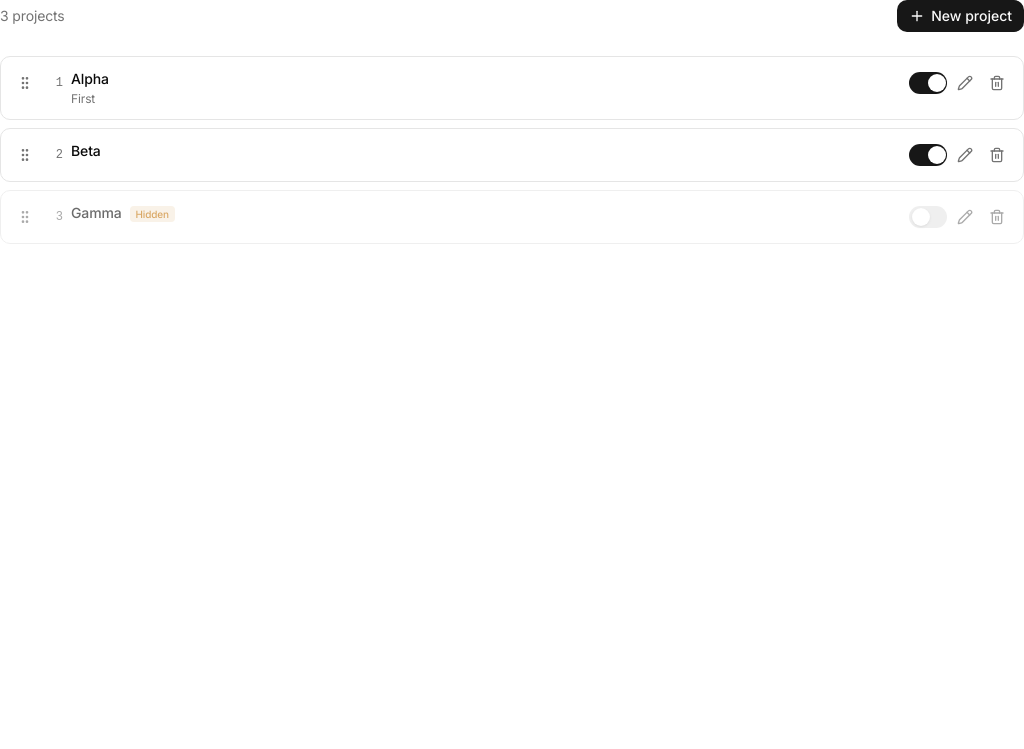
Test: form › opens an inline form on Edit
What coordinates should you click on to do the following:
click the button named "Edit Alpha"
I would click on:
 (965, 83)
Its box is [951, 69, 979, 97].
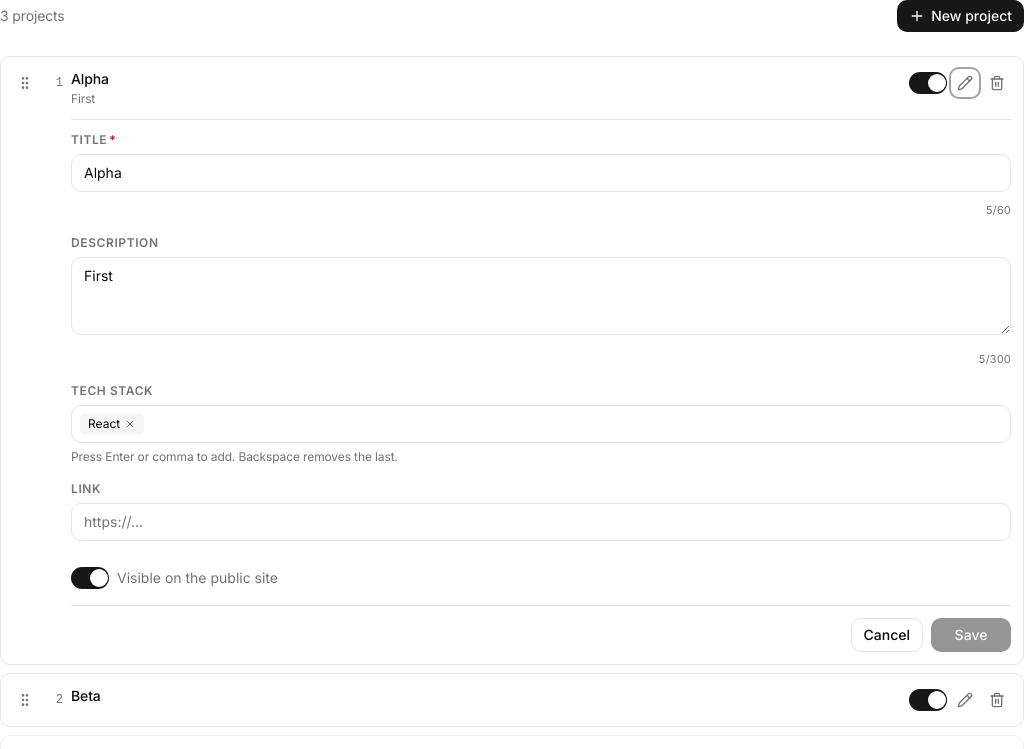
expect the field labelled "Title*" holds "Alpha": met, box [71, 154, 1011, 192]
